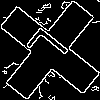L: (25, 25, 78, 75)
